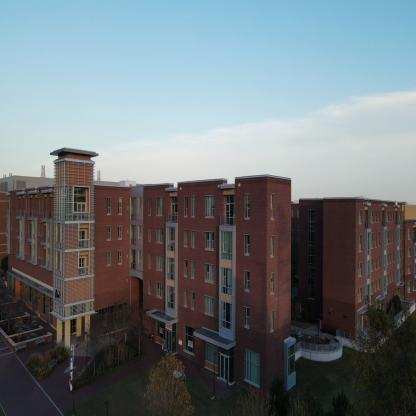Wolf Ridge: (10, 136, 414, 369)
